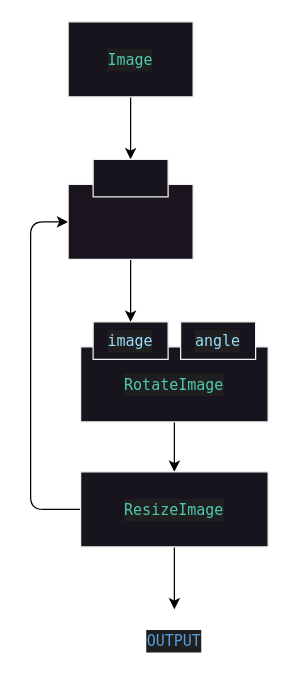
The diagram is 290 pixels wide and 681 high, and some of its shapes have lost their labels. The box of each missing label's shape, as (x1, y1, x2, y2) in pixels:
Feedback: (67, 183, 193, 259)
init: (92, 158, 168, 197)
